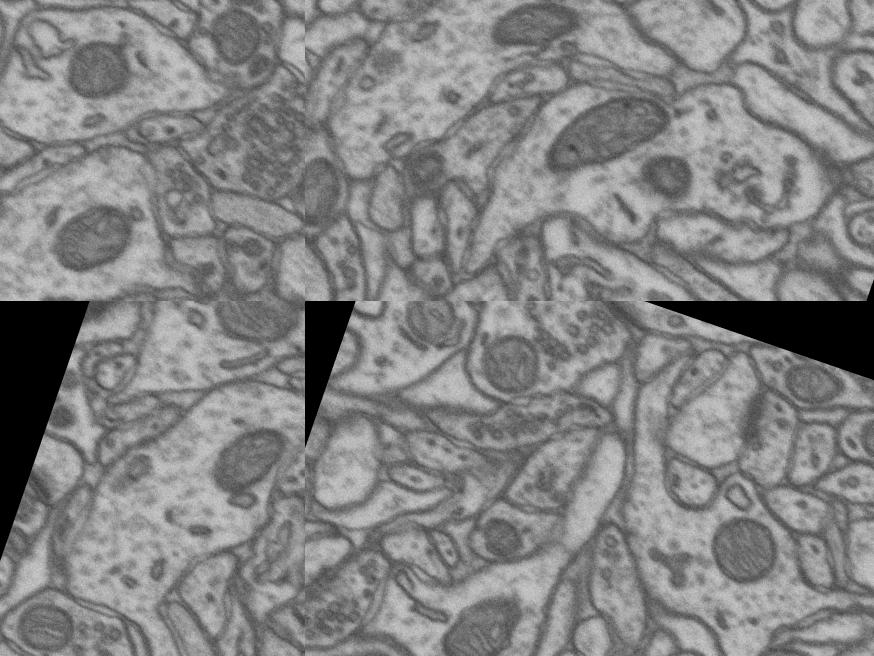mitochondria: (525, 56, 678, 217), (684, 494, 802, 606), (40, 182, 148, 292), (196, 404, 302, 511), (50, 16, 152, 118), (416, 576, 538, 656), (470, 311, 564, 411), (482, 0, 599, 68), (622, 134, 710, 221), (759, 346, 853, 423), (197, 301, 305, 367), (0, 577, 89, 656), (194, 0, 281, 77), (464, 494, 540, 580), (383, 301, 477, 366), (389, 133, 460, 206), (305, 140, 355, 242), (841, 402, 874, 483), (305, 456, 327, 530)
